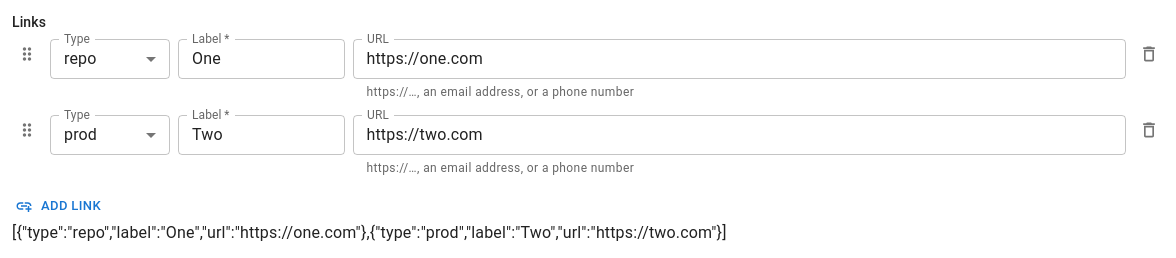
it: LinkEditor › removes a link row
Expected: the number of elements with test id "link-row" is 2, x1=12 y1=39 x2=1164 y2=103; x1=12 y1=115 x2=1164 y2=179
What coordinates should you click on to do the following:
click the button named "remove link 1"
I would click on:
 (1149, 54)
Its box is x1=1134 y1=39 x2=1164 y2=69.
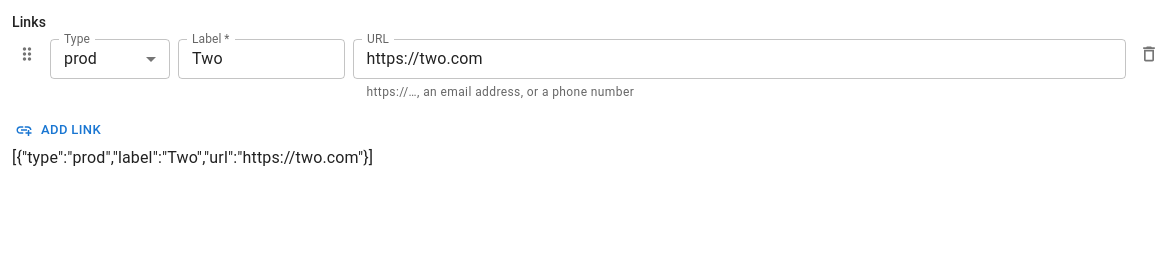
Now the number of elements with test id "link-row" is 1, box x1=12 y1=39 x2=1164 y2=103
Now the field labelled "Label *" holds "Two", box x1=178 y1=39 x2=344 y2=79
